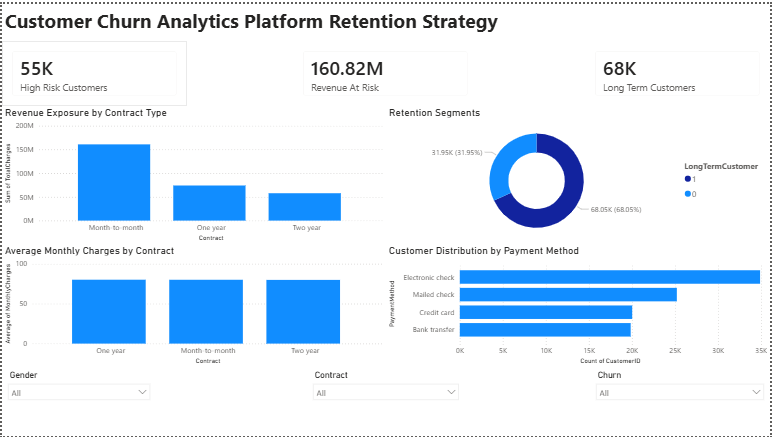

What the dashboard file says about the page in this screenshot:
{"tool":"powerbi","page":{"name":"Retention Strategy","canvas":[1280,720],"ordinal":3},"visuals":[{"type":"textbox","box":[0,0,946.7,61.7],"z":0},{"type":"cardVisual","title":"High Risk Customers","fields":{"Data":["churn_final.High Risk Customers"]},"box":[0,61.7,308.3,108.3],"z":1},{"type":"cardVisual","fields":{"Data":["churn_final.Revenue At Risk"]},"box":[485,61.7,308.3,108.3],"z":2},{"type":"cardVisual","fields":{"Data":["churn_final.Long Term Customers"]},"box":[971.7,61.7,308.3,108.3],"z":3},{"type":"clusteredColumnChart","title":"Revenue Exposure by Contract Type","fields":{"Category":["churn_final.Contract"],"Y":["Sum(churn_final.TotalCharges)"]},"box":[0,170,640,230],"z":4},{"type":"donutChart","title":"Retention Segments","fields":{"Category":["churn_final.LongTermCustomer"],"Y":["CountNonNull(churn_final.CustomerID)"]},"box":[640,170,640,230],"z":5},{"type":"clusteredColumnChart","title":"Average Monthly Charges by Contract","fields":{"Category":["churn_final.Contract"],"Y":["Avg(churn_final.MonthlyCharges)"]},"box":[0,400,640,205],"z":6},{"type":"clusteredBarChart","title":"Customer Distribution by Payment Method","fields":{"Category":["churn_final.PaymentMethod"],"Y":["CountNonNull(churn_final.CustomerID)"]},"box":[640,400,640,205],"z":7},{"type":"slicer","fields":{"Values":["churn_final.Gender"]},"box":[0,605,256.7,115],"z":8},{"type":"slicer","fields":{"Values":["churn_final.Contract"]},"box":[508.3,605,263.3,115],"z":9},{"type":"slicer","fields":{"Values":["churn_final.Churn"]},"box":[980,605,300,115],"z":10}]}

Visuals, with their boxes in screenshot pixels (x1, y1, x2, y2), scaled from the page's 1280x720 canvas onto the 772x437 screenshot:
textbox: BBox(0, 0, 571, 37)
"High Risk Customers" cardVisual: BBox(0, 37, 186, 103)
cardVisual - churn_final.Revenue At Risk: BBox(293, 37, 478, 103)
cardVisual - churn_final.Long Term Customers: BBox(586, 37, 771, 103)
"Revenue Exposure by Contract Type" clusteredColumnChart: BBox(0, 103, 386, 243)
"Retention Segments" donutChart: BBox(386, 103, 771, 243)
"Average Monthly Charges by Contract" clusteredColumnChart: BBox(0, 243, 386, 367)
"Customer Distribution by Payment Method" clusteredBarChart: BBox(386, 243, 771, 367)
slicer - churn_final.Gender: BBox(0, 367, 155, 436)
slicer - churn_final.Contract: BBox(307, 367, 465, 436)
slicer - churn_final.Churn: BBox(591, 367, 771, 436)
